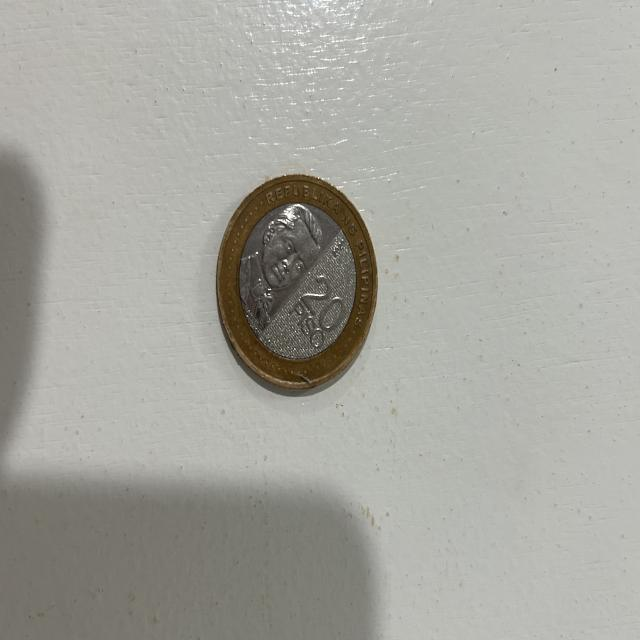20_New_Front: (289, 278, 357, 352)
